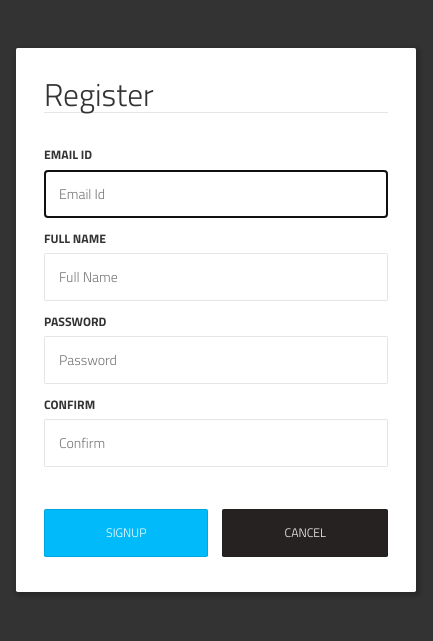
<SignUpPage/> › should show error message if sign in button is pressed with invalid values
Click the button "Signup" at [126, 533], box [44,509,208,557]
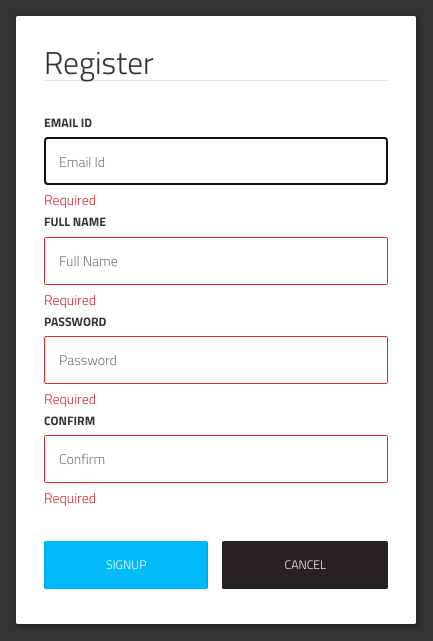
Expected: the text with class "error-text" below "Email Id" reads "Required", [44,189,96,210]
Expected: the text with class "error-text" below "Full Name" reads "Required", [44,288,96,310]
Expected: the text with class "error-text" below "Password" reads "Required", [44,388,96,409]
